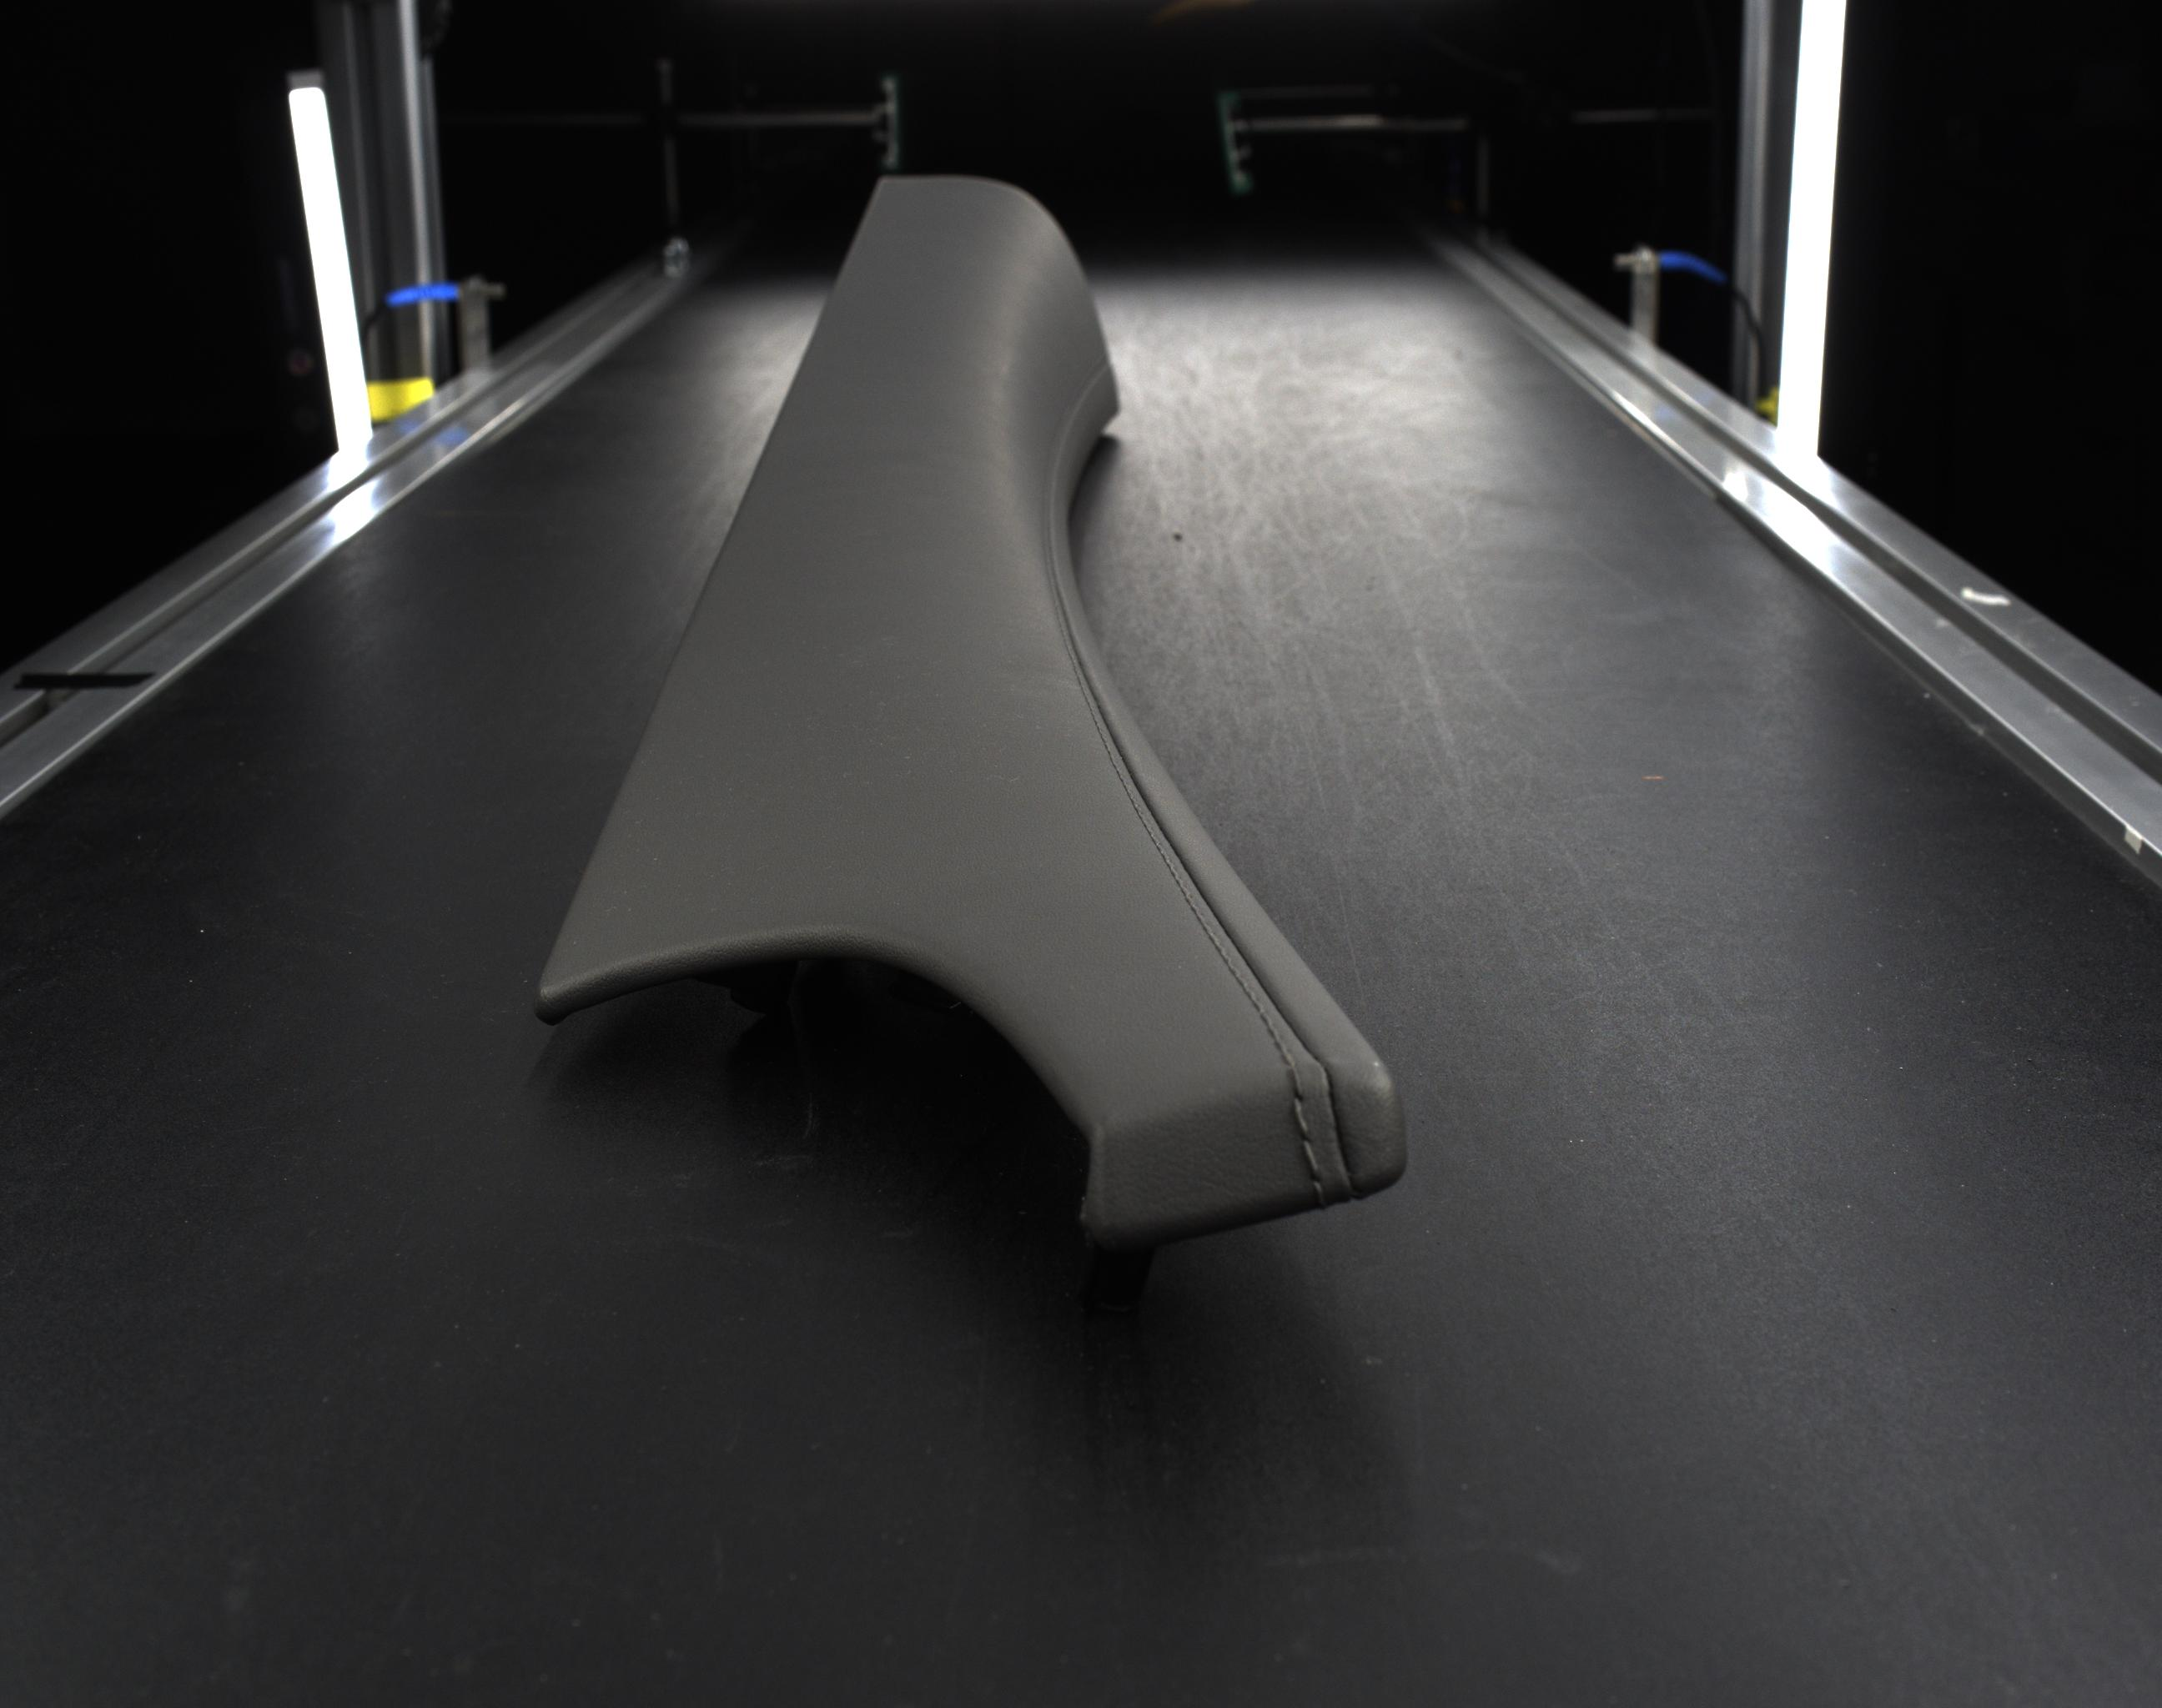vline: (1302, 1136, 1318, 1180), (1293, 1101, 1311, 1137), (1313, 1183, 1325, 1201)
